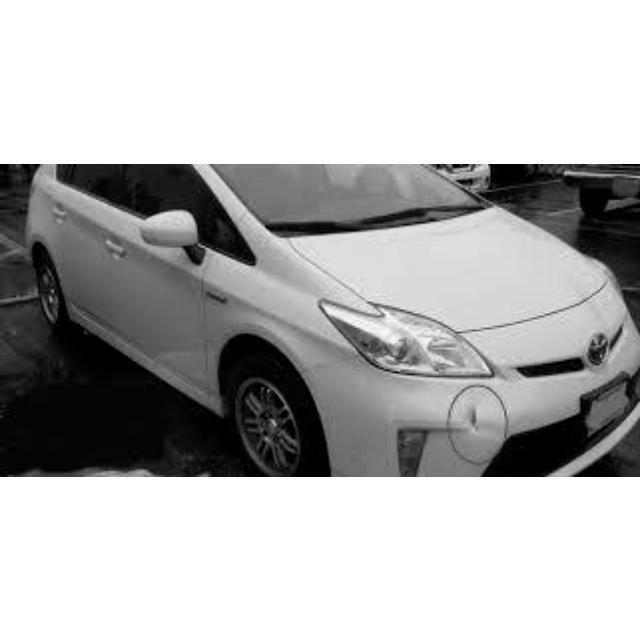front-bumper-dent: (326, 363, 601, 474)
